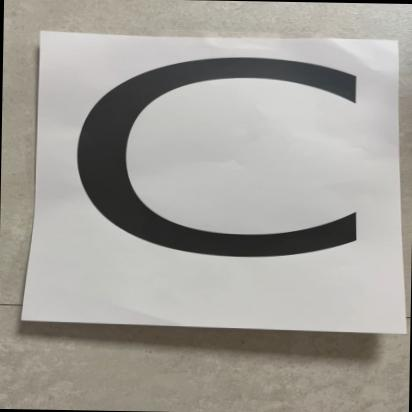seat: (30, 28, 410, 330)
